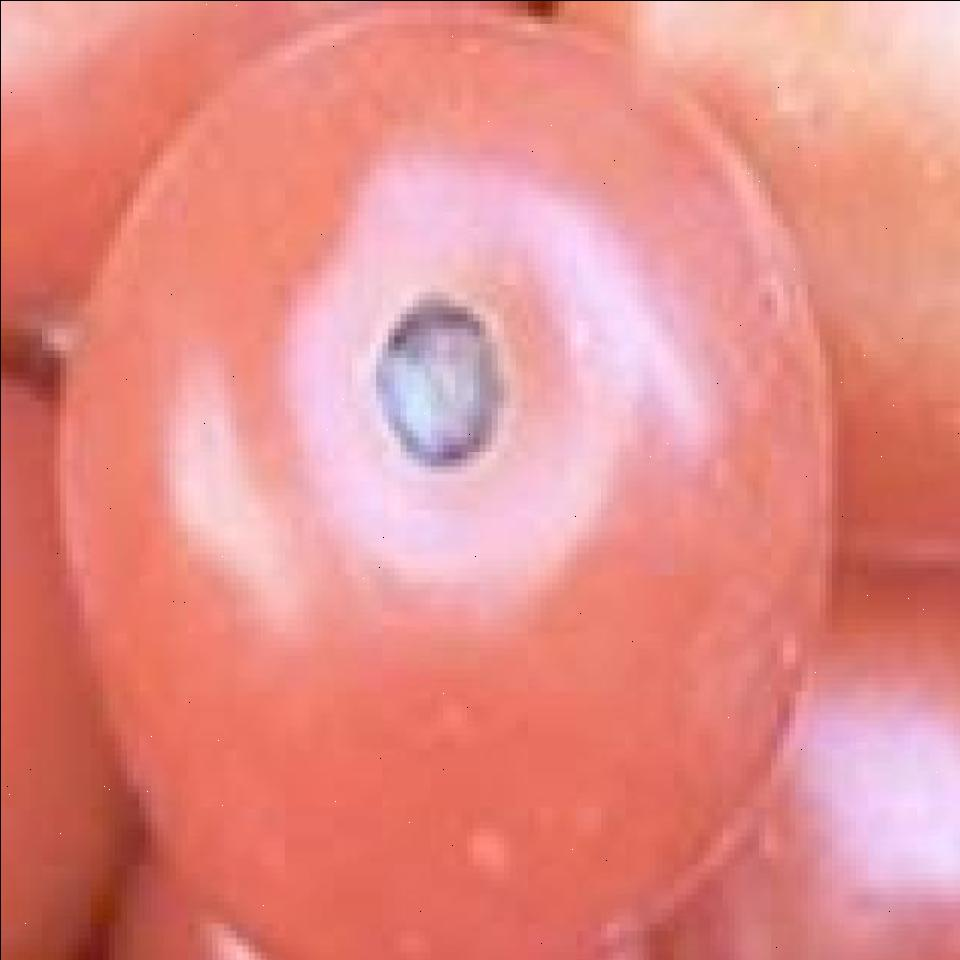Blossom_end_rot: (360, 278, 506, 466)
